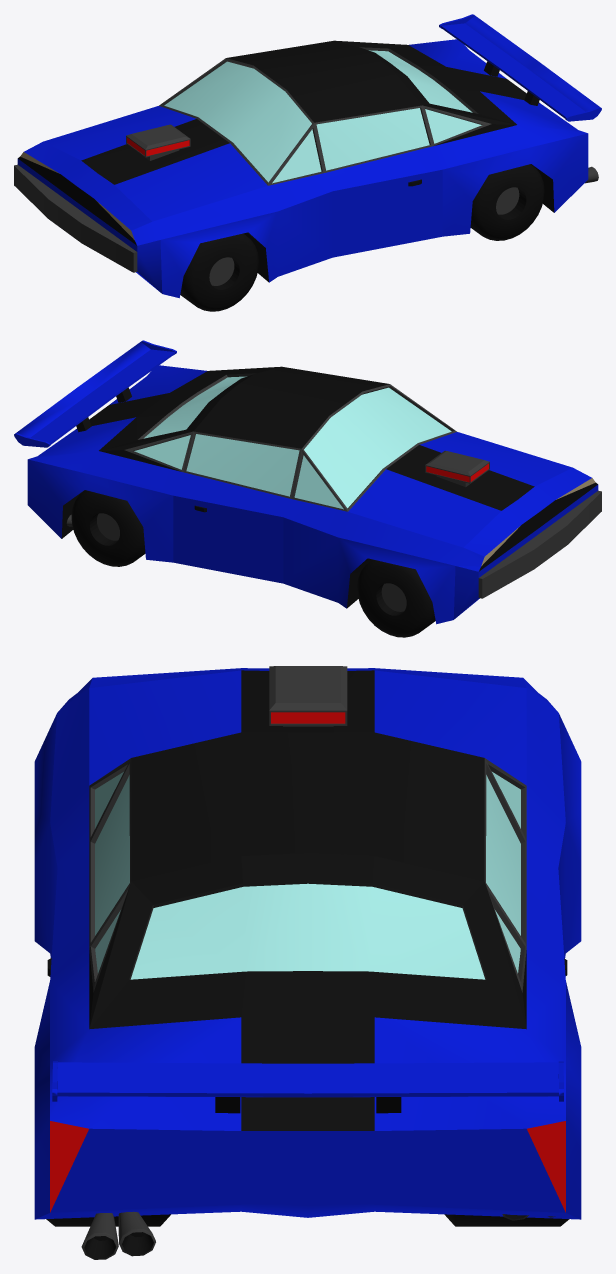
3 renders of one model, top to bottom at view 1: azimuth 30°, elevation 25°; view 2: azimuth 150°, elevation 25°; view 3: azimuth 270°, elevation 25°, orthographic. The views are drawn at different scales.
Visible parts, largest first — view 1: Chassis, Spoiler, RodaFrenteEsquerdaT001, RodasTrás001, Motor; view 2: Chassis, Spoiler, RodaFrenteDireita002, RodasTrás001, Motor; view 3: Chassis, Spoiler, Motor, Escape, RodasTrás001.
Boxes of the visible parts, left/top/right/bottom form: Chassis: left=14, top=39, right=588, bottom=298; Spoiler: left=439, top=14, right=601, bottom=121; RodaFrenteEsquerdaT001: left=180, top=233, right=258, bottom=311; RodasTrás001: left=470, top=164, right=544, bottom=240; Motor: left=126, top=124, right=190, bottom=160; Chassis: left=27, top=365, right=601, bottom=624; Spoiler: left=14, top=340, right=176, bottom=447; RodaFrenteDireita002: left=357, top=559, right=435, bottom=637; RodasTrás001: left=71, top=490, right=145, bottom=566; Motor: left=425, top=450, right=489, bottom=486; Chassis: left=34, top=668, right=581, bottom=1219; Spoiler: left=52, top=1061, right=563, bottom=1113; Motor: left=269, top=666, right=347, bottom=726; Escape: left=81, top=1211, right=555, bottom=1259; RodasTrás001: left=46, top=1214, right=569, bottom=1226.
Bounding box in the file's own units: 26.63 × 8.44 × 13.19.
